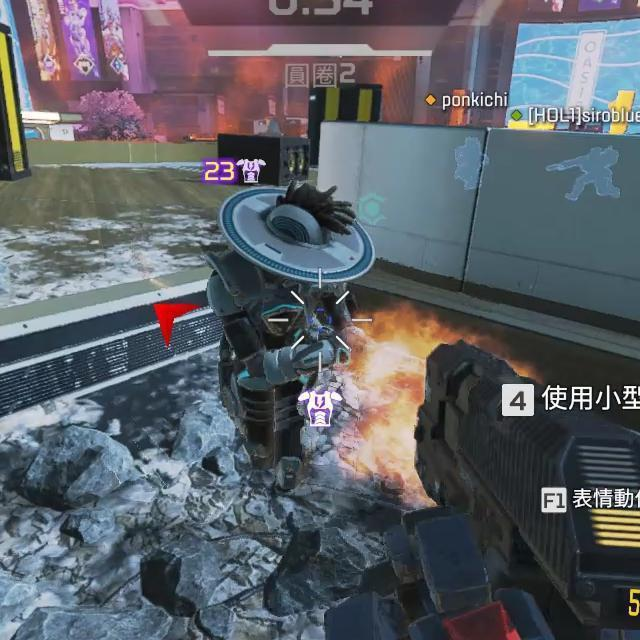avatar: (199, 182, 378, 478)
